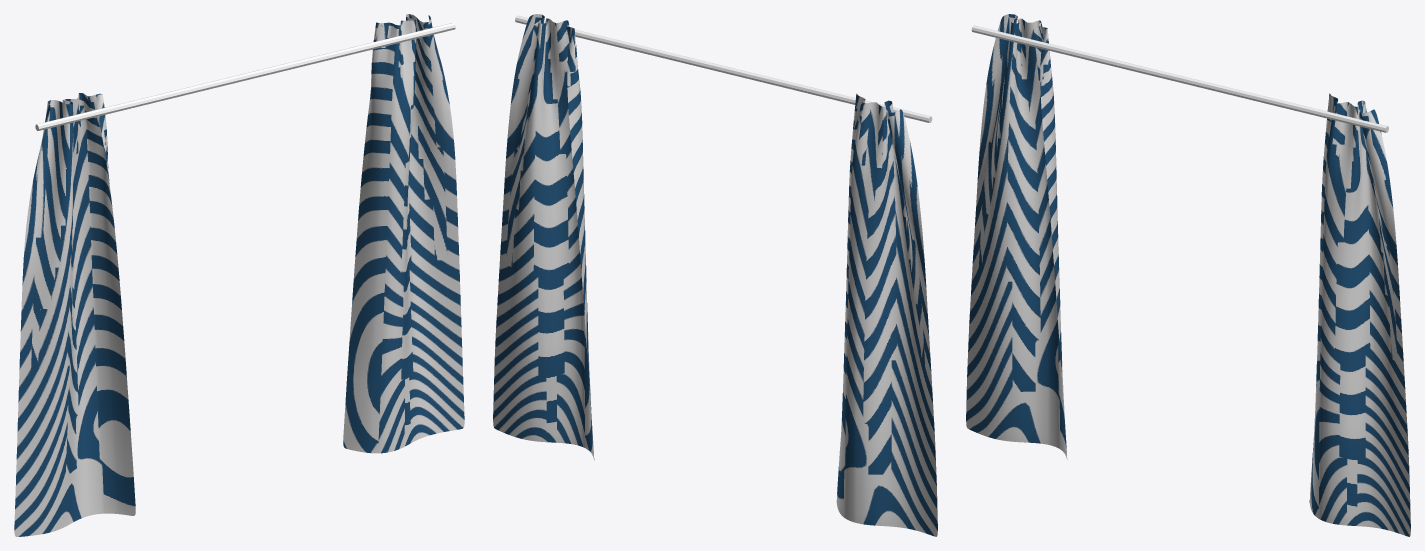
Rendered from cortina.fbx.
3 renders of one model, left to right at view 1: azimuth 30°, elevation 25°; view 2: azimuth 150°, elevation 25°; view 3: azimuth 330°, elevation 25°, orthographic.
Parts seen in each view (by area): view 1: polySurface48, polySurface62, polySurface36; view 2: polySurface48, polySurface62, polySurface36; view 3: polySurface62, polySurface48, polySurface36.
Part boxes in pixels (x1,y1,x2,y2): polySurface48: (343,14,464,453); polySurface62: (14,93,135,536); polySurface36: (35,23,455,130); polySurface48: (493,14,594,459); polySurface62: (836,93,937,536); polySurface36: (515,15,932,122); polySurface62: (966,14,1067,459); polySurface48: (1309,93,1410,536); polySurface36: (971,25,1388,132).
Size of the model in its own units: 1.87 by 1.69 by 0.1377.
2 materials, 1 textured.
